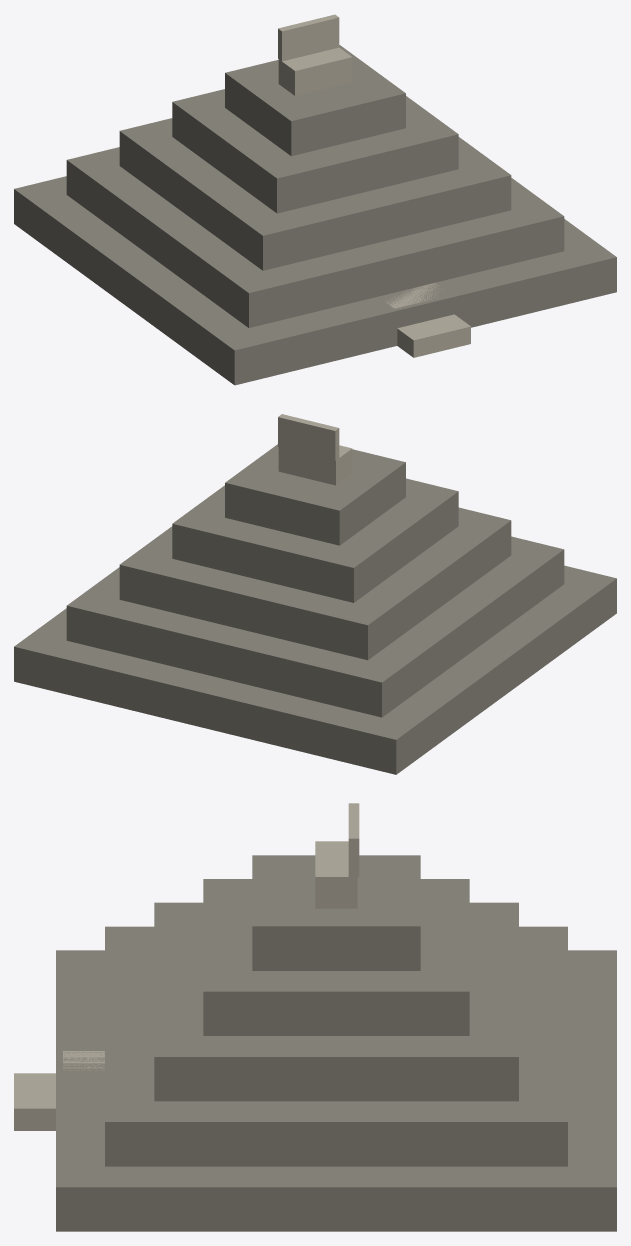
Rendered from ushno_vilcas.glb.
The picture shows the model from 3 angles, top to bottom: view 1: azimuth 30°, elevation 25°; view 2: azimuth 150°, elevation 25°; view 3: azimuth 270°, elevation 25°; orthographic projection. The views are drawn at different scales.
Parts seen in each view (by area): view 1: reconstruccion; view 2: reconstruccion; view 3: reconstruccion.
Boxes of the visible parts, box(x1,y1,x2,y2) form: reconstruccion: box(14, 14, 616, 385); reconstruccion: box(14, 414, 616, 774); reconstruccion: box(14, 803, 616, 1231).
Bounding box in the file's own units: 8 × 4.6 × 8.6.
